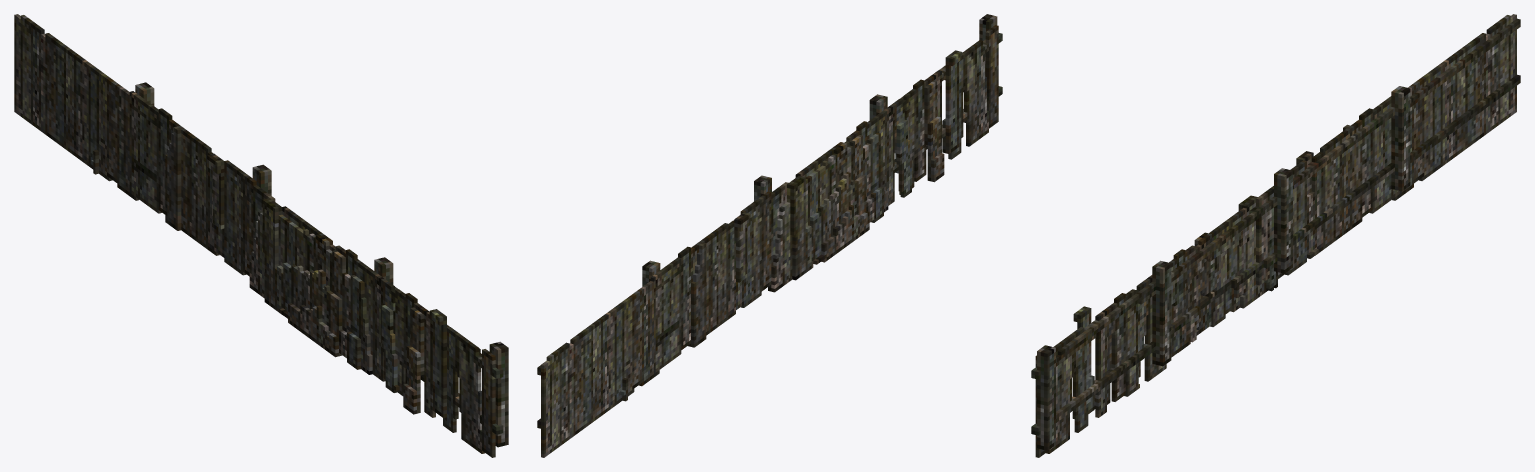
Rendered from Fence.obj.
The picture shows the model from 3 angles, left to right: view 1: azimuth 30°, elevation 25°; view 2: azimuth 150°, elevation 25°; view 3: azimuth 330°, elevation 25°; orthographic projection. The views are drawn at different scales.
Visible parts, largest first — view 1: Fance; view 2: Fance; view 3: Fance.
Boxes of the visible parts, box(x1,y1,x2,y2) form: Fance: box(14, 14, 508, 457); Fance: box(537, 14, 1002, 457); Fance: box(1031, 14, 1520, 457).
Bounding box in the file's own units: 0.754 × 3.34 × 25.24.
